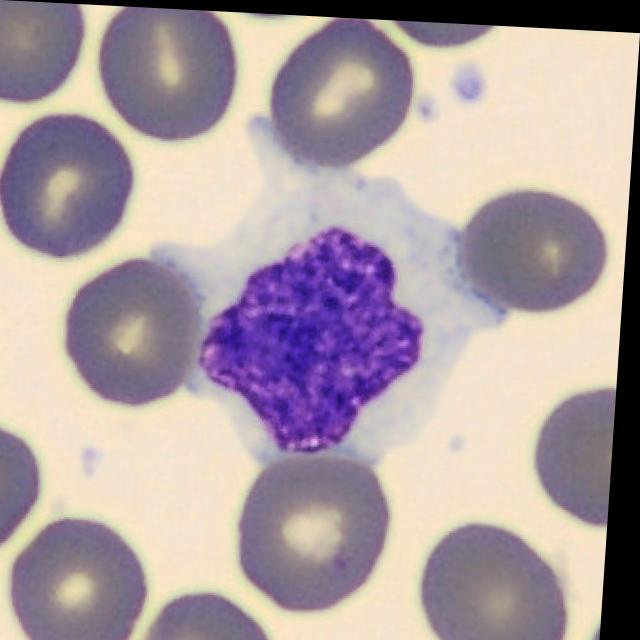Linfocito atipico: (154, 129, 507, 459)
